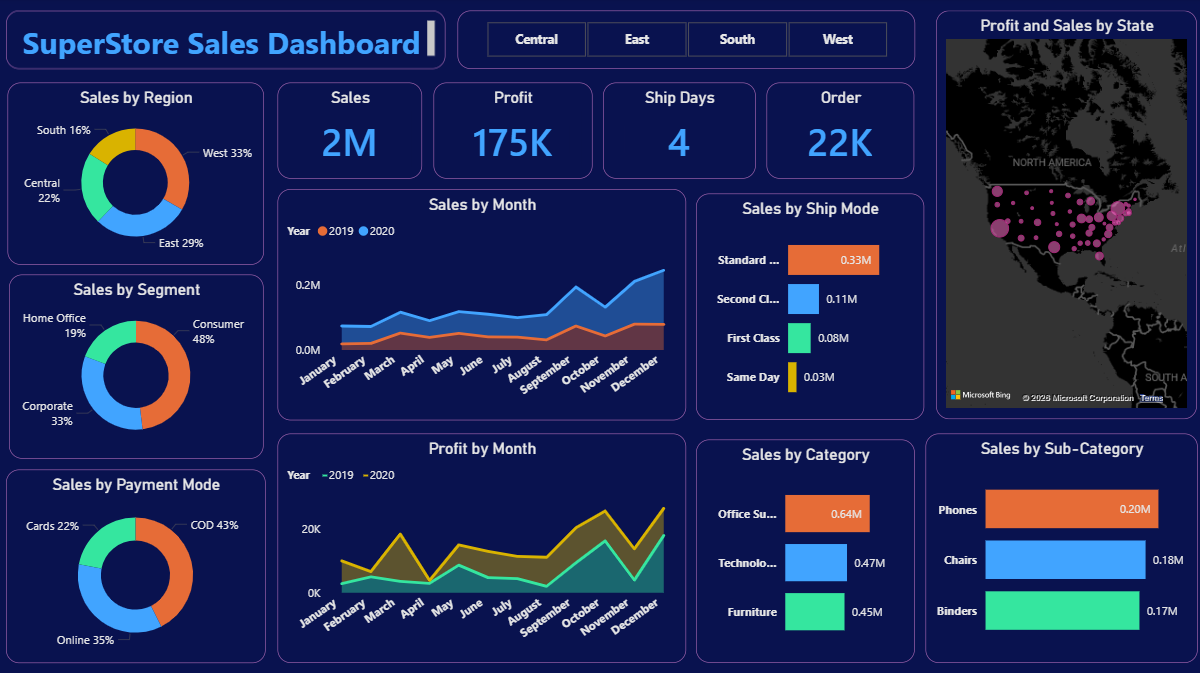

The dashboard page shown, as its layout file describes it:
{"tool":"powerbi","page":{"name":"Page 1","canvas":[1280,720],"ordinal":0},"visuals":[{"type":"clusteredBarChart","title":"Sales by Category","fields":{"Category":["SuperStore_Sales_Dataset.Category"],"Y":["Sum(SuperStore_Sales_Dataset.Sales)"]},"box":[738.3,470,231.7,236.7],"z":0},{"type":"clusteredBarChart","title":"Sales by Sub-Category","fields":{"Y":["Sum(SuperStore_Sales_Dataset.Sales)"],"Category":["SuperStore_Sales_Dataset.Sub-Category"]},"box":[981.7,463.3,288.3,243.3],"z":1000},{"type":"clusteredBarChart","title":"Sales by Ship Mode","fields":{"Y":["Sum(SuperStore_Sales_Dataset.Sales)"],"Category":["SuperStore_Sales_Dataset.Ship Mode"]},"box":[738.3,208.3,241.7,240],"z":2000},{"type":"stackedAreaChart","title":"Sales by Month","fields":{"Y":["Sum(SuperStore_Sales_Dataset.Sales)"],"Category":["SuperStore_Sales_Dataset.Order Date.Variation.Date Hierarchy.Month","SuperStore_Sales_Dataset.Order Date.Variation.Date Hierarchy.Day"],"Series":["SuperStore_Sales_Dataset.Order Date.Variation.Date Hierarchy.Year"]},"box":[295,203.3,433.3,245],"z":3000},{"type":"stackedAreaChart","title":"Profit by Month","fields":{"Category":["SuperStore_Sales_Dataset.Order Date.Variation.Date Hierarchy.Month","SuperStore_Sales_Dataset.Order Date.Variation.Date Hierarchy.Day"],"Series":["SuperStore_Sales_Dataset.Order Date.Variation.Date Hierarchy.Year"],"Y":["Sum(SuperStore_Sales_Dataset.Profit)"]},"box":[295,463.3,433.3,243.3],"z":4000},{"type":"map","title":"Profit and Sales by State","fields":{"Category":["SuperStore_Sales_Dataset.State"],"Size":["Sum(SuperStore_Sales_Dataset.Sales)"]},"box":[993.3,15,276.7,433.3],"z":5000},{"type":"donutChart","title":"Sales by Segment","fields":{"Category":["SuperStore_Sales_Dataset.Segment"],"Y":["Sum(SuperStore_Sales_Dataset.Sales)"]},"box":[10,295,270,195],"z":6000},{"type":"donutChart","title":"Sales by Payment Mode","fields":{"Y":["Sum(SuperStore_Sales_Dataset.Sales)"],"Category":["SuperStore_Sales_Dataset.Payment Mode"]},"box":[6.4,501,275.2,205.2],"z":7000},{"type":"slicer","fields":{"Values":["SuperStore_Sales_Dataset.Region"]},"box":[485.1,14.3,485.1,62],"z":8000},{"type":"textbox","box":[6.4,14.3,466,62],"z":9000},{"type":"cardVisual","title":"Ship Days","fields":{"Data":["Avg(SuperStore_Sales_Dataset.AvgDelivery)"]},"box":[640,90,161.7,101.7],"z":10000},{"type":"cardVisual","title":"Order","fields":{"Data":["Sum(SuperStore_Sales_Dataset.Quantity)"]},"box":[813.3,90,156.7,101.7],"z":11000},{"type":"cardVisual","title":"Profit","fields":{"Data":["Sum(SuperStore_Sales_Dataset.Profit)"]},"box":[460,90,168.3,101.7],"z":12000},{"type":"cardVisual","title":"Sales","fields":{"Data":["Sum(SuperStore_Sales_Dataset.Sales)"]},"box":[295,90,153.3,101.7],"z":13000},{"type":"donutChart","title":" Sales by Region","fields":{"Category":["SuperStore_Sales_Dataset.Region"],"Y":["Sum(SuperStore_Sales_Dataset.Sales)"]},"box":[8.3,90,271.7,193.3],"z":14000}]}

Visuals, with their boxes in screenshot pixels (x1, y1, x2, y2), scaled from the page's 1280x720 canvas onto the 1200x673 screenshot:
"Sales by Category" clusteredBarChart: 692:439:909:661
"Sales by Sub-Category" clusteredBarChart: 920:433:1191:660
"Sales by Ship Mode" clusteredBarChart: 692:195:919:419
"Sales by Month" stackedAreaChart: 277:190:683:419
"Profit by Month" stackedAreaChart: 277:433:683:660
"Profit and Sales by State" map: 931:14:1191:419
"Sales by Segment" donutChart: 9:276:262:458
"Sales by Payment Mode" donutChart: 6:468:264:660
slicer - SuperStore_Sales_Dataset.Region: 455:13:910:71
textbox: 6:13:443:71
"Ship Days" cardVisual: 600:84:752:179
"Order" cardVisual: 762:84:909:179
"Profit" cardVisual: 431:84:589:179
"Sales" cardVisual: 277:84:420:179
" Sales by Region" donutChart: 8:84:262:265
